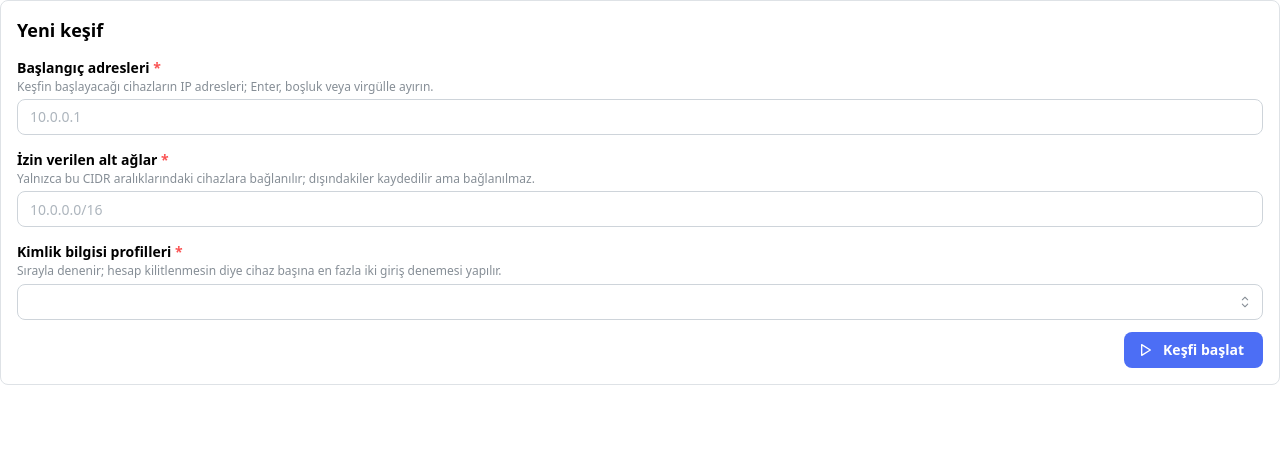
Test: discovery form › shows every problem on submit and sends nothing
The width and height of the screenshot is (1280, 460).
Click the button "Keşfi başlat": x=1194, y=350 [1124,332,1263,368]
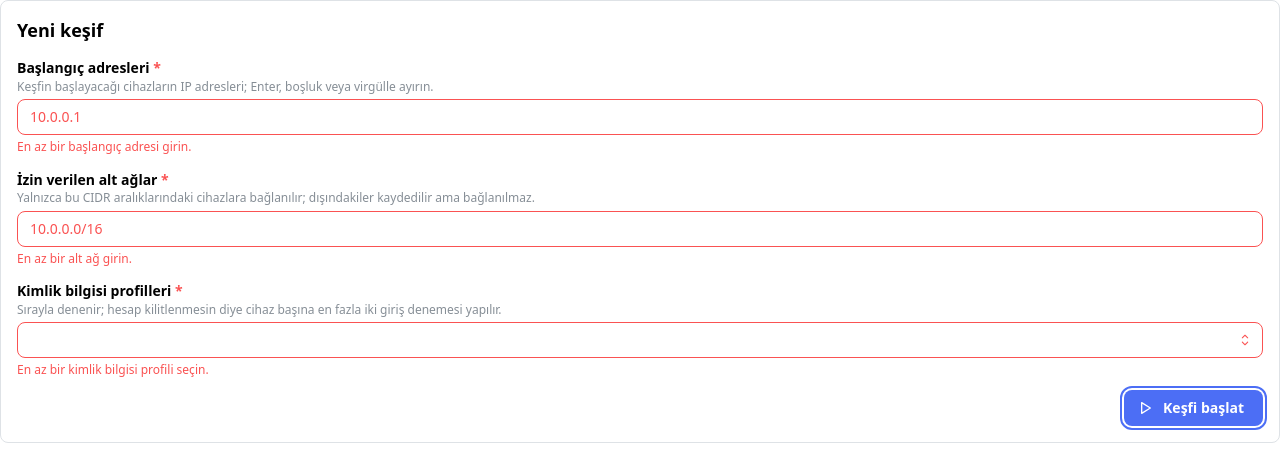
Now the text "En az bir başlangıç adresi girin." is shown, box [17,138,191,155]
Now the text "En az bir alt ağ girin." is shown, box [17,250,132,267]
Now the text "En az bir kimlik bilgisi profili seçin." is shown, box [17,361,209,378]
